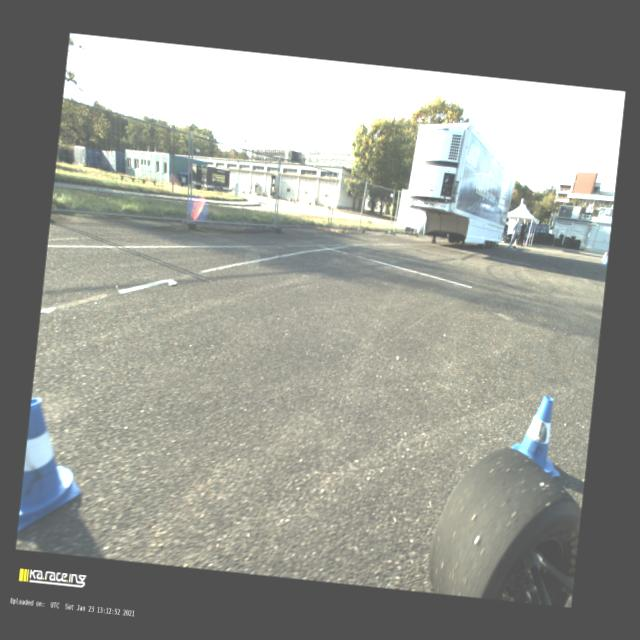blue_cone: (17, 397, 90, 536), (509, 392, 567, 478), (602, 257, 607, 266), (602, 254, 606, 262)
yellow_cone: (512, 238, 517, 245), (522, 240, 526, 244)
